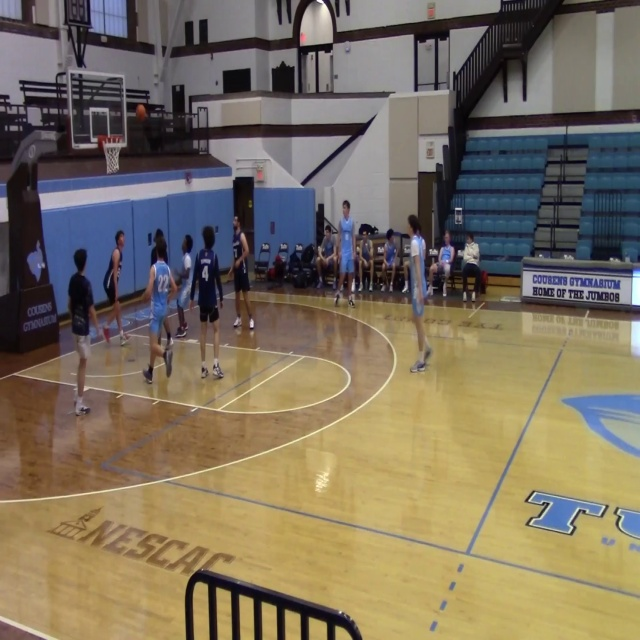Basketball: (135, 104, 147, 121)
